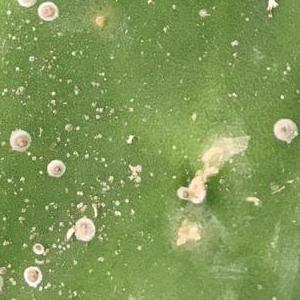Femea: (74, 219, 93, 242), (35, 2, 58, 20), (11, 131, 30, 149), (275, 120, 292, 139), (48, 161, 64, 176), (23, 267, 37, 284), (177, 185, 187, 201), (33, 242, 42, 255)
